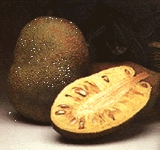jackfruit: (47, 63, 158, 145), (7, 16, 89, 124)
